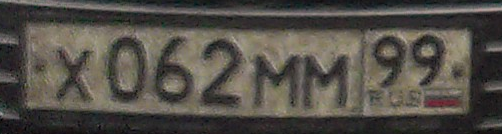character: (107, 33, 150, 103), (251, 50, 302, 107), (202, 38, 244, 107), (306, 51, 352, 111), (155, 32, 194, 101), (54, 47, 98, 105), (373, 31, 411, 89), (411, 35, 448, 89)
